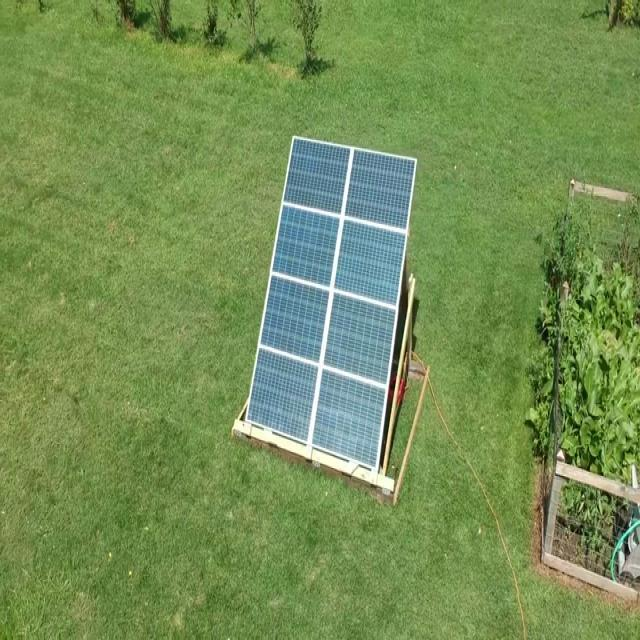Normal Solar Panel: (245, 140, 417, 467)
